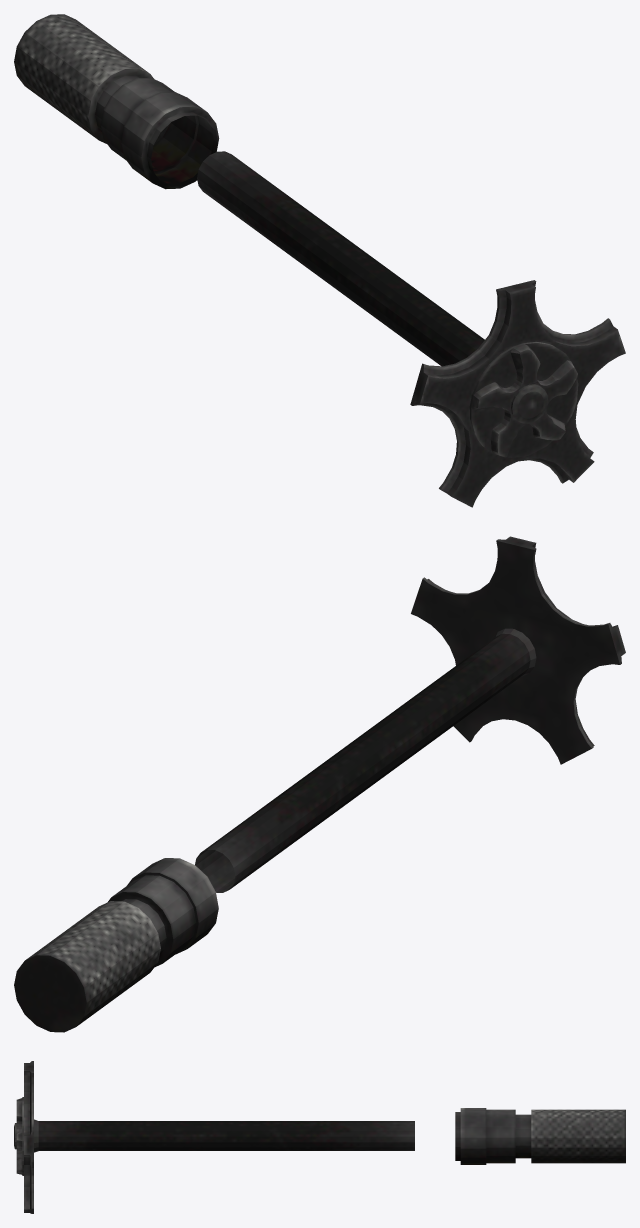
3 renders of one model, top to bottom at view 1: azimuth 30°, elevation 25°; view 2: azimuth 150°, elevation 25°; view 3: azimuth 270°, elevation 25°, orthographic. The views are drawn at different scales.
Parts seen in each view (by area): view 1: TW_633ec7c2a6918cb895019c6c_PZ_Import; view 2: TW_633ec7c2a6918cb895019c6c_PZ_Import; view 3: TW_633ec7c2a6918cb895019c6c_PZ_Import.
Boxes of the visible parts, <box> form: TW_633ec7c2a6918cb895019c6c_PZ_Import: <box>14,14,625,507</box>; TW_633ec7c2a6918cb895019c6c_PZ_Import: <box>14,536,625,1032</box>; TW_633ec7c2a6918cb895019c6c_PZ_Import: <box>14,1061,625,1213</box>.
Bounding box in the file's own units: 0.0186 × 0.0737 × 0.0177.
1 material, 1 textured.
